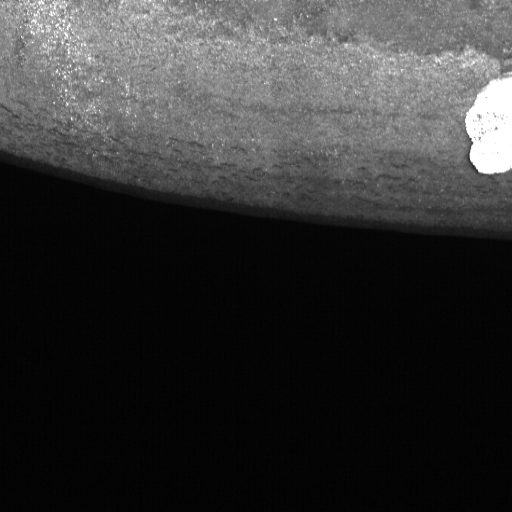aokeng: (464, 65, 512, 178)
